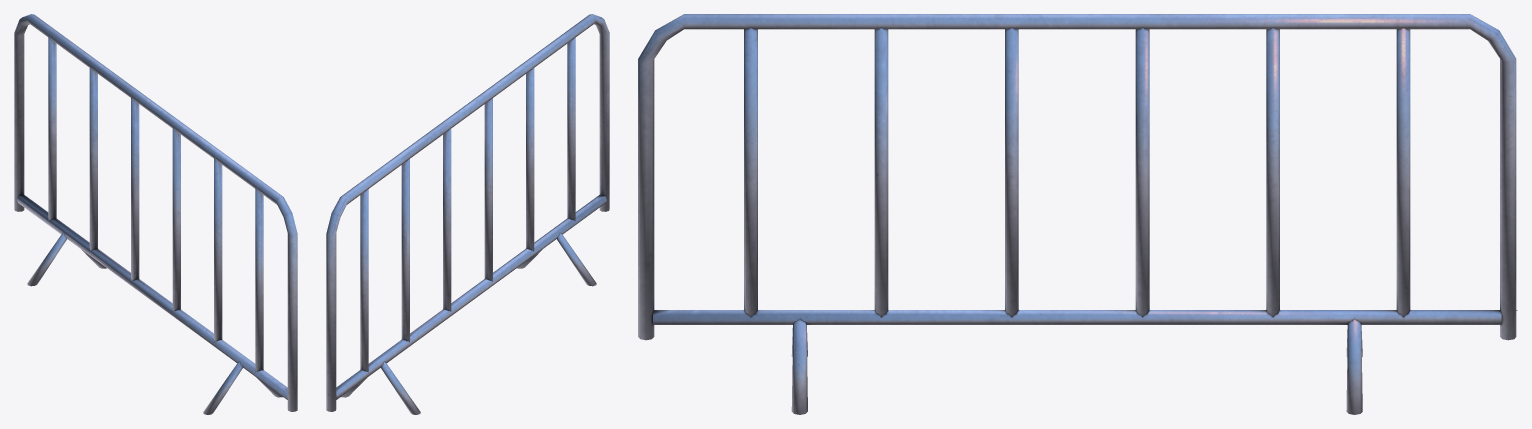
Rendered from ConstructionFence_02.glb.
3 views of the same model, side by side, from view 1: azimuth 30°, elevation 25°; view 2: azimuth 150°, elevation 25°; view 3: azimuth 270°, elevation 25° (orthographic). The views are drawn at different scales.
Parts seen in each view (by area): view 1: ConstructionFence_02; view 2: ConstructionFence_02; view 3: ConstructionFence_02.
Part boxes in pixels (x1,y1,x2,y2): ConstructionFence_02: [14, 14, 297, 414]; ConstructionFence_02: [326, 14, 609, 414]; ConstructionFence_02: [638, 14, 1517, 414].
Size of the model in its own units: 0.4657 by 1.3 by 2.8.
1 material, 1 textured.
